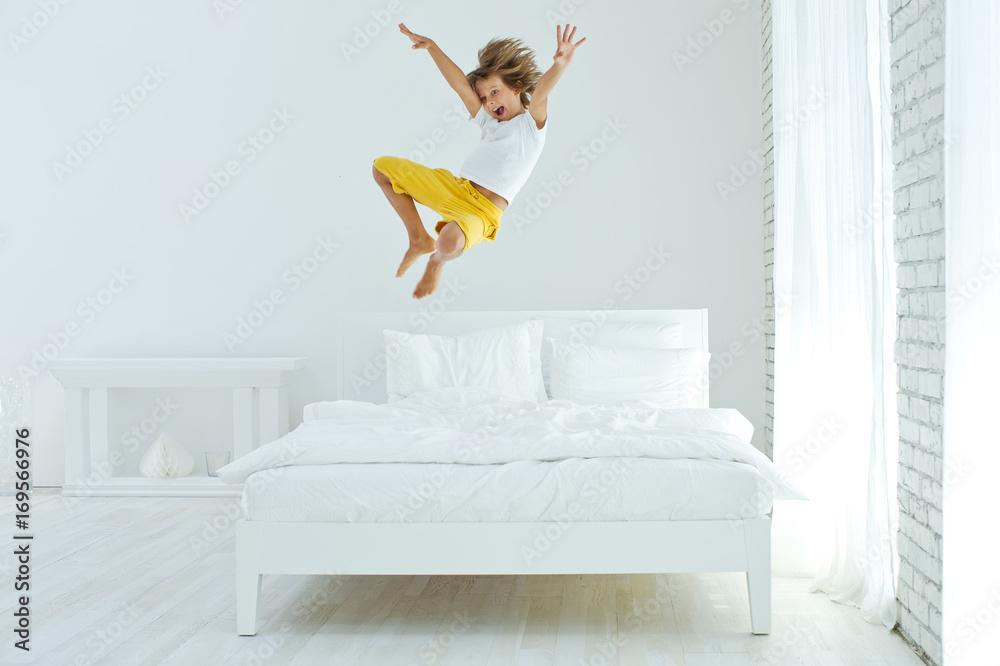bed: (200, 387, 786, 620)
